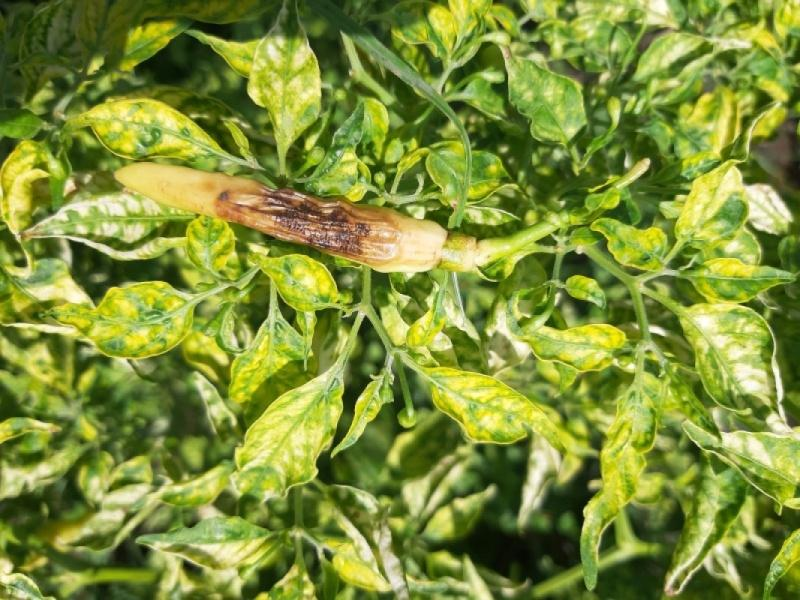antraknosa: (115, 162, 448, 273)
